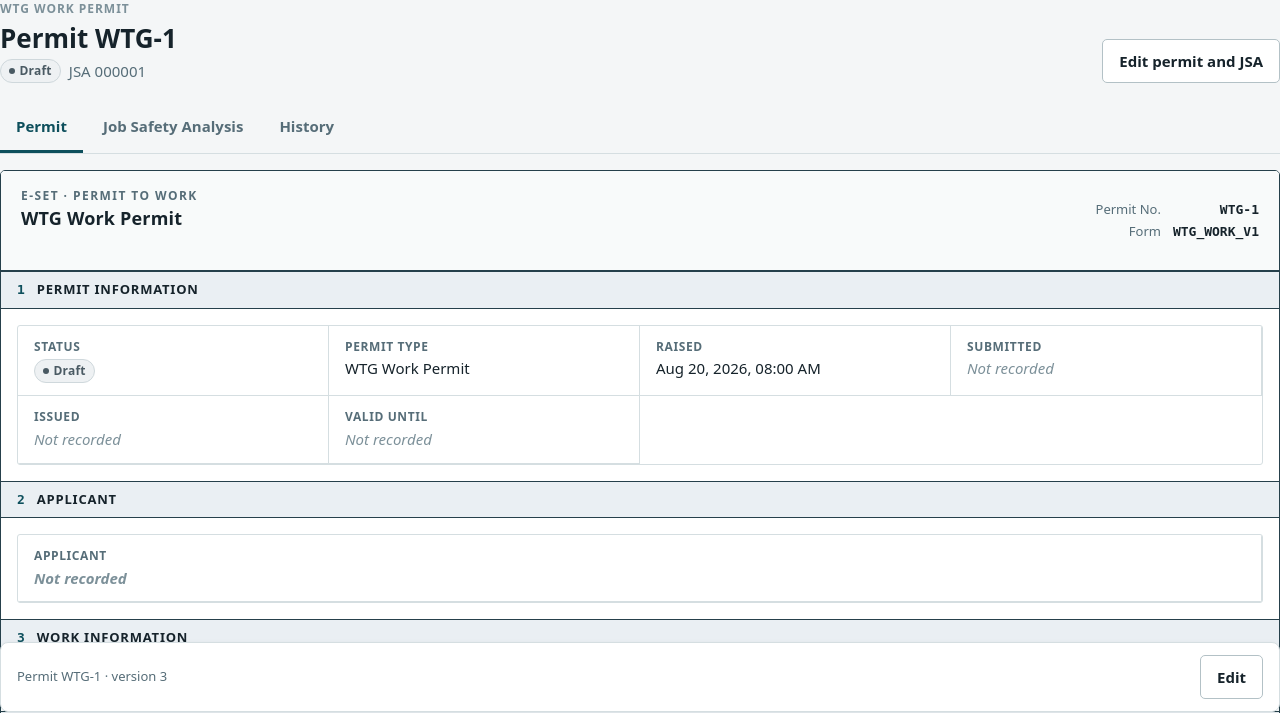
editing › shows the backend’s field-level validation issues
Click the button "Edit permit and JSA": (1191, 61) [1102,39,1279,83]
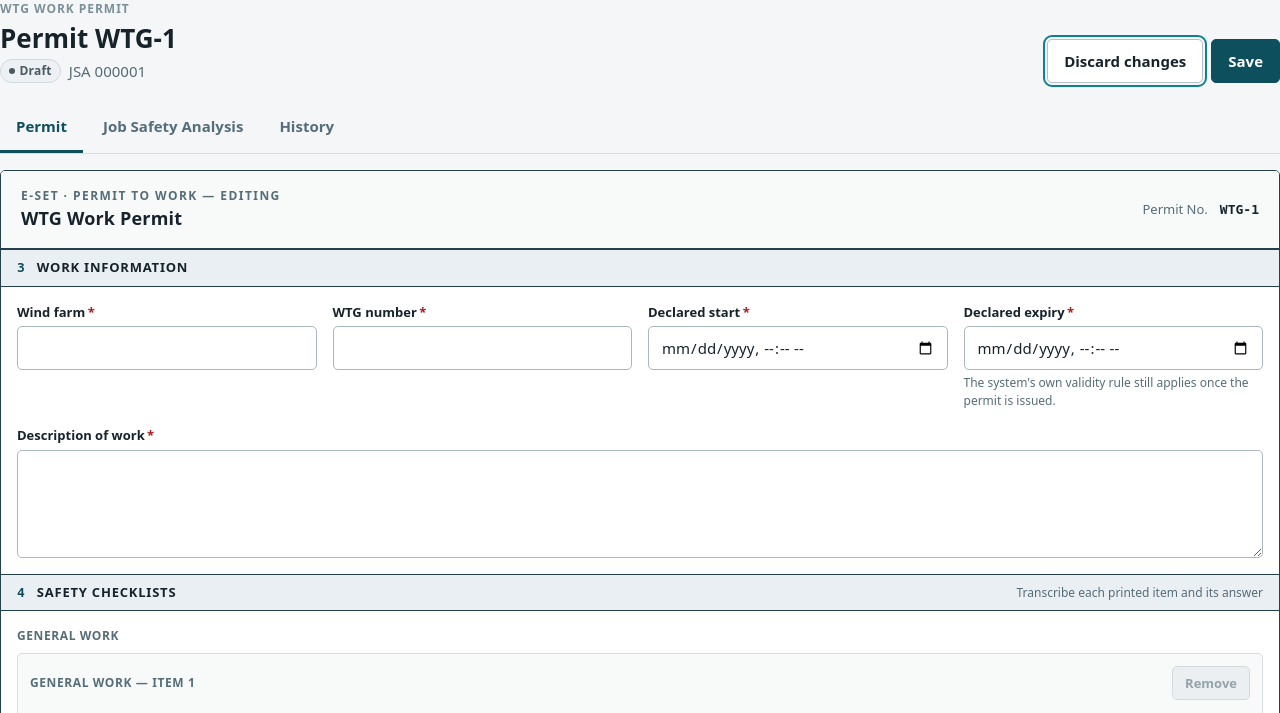
Click the button "Save": (1246, 61) [1211,39,1279,83]
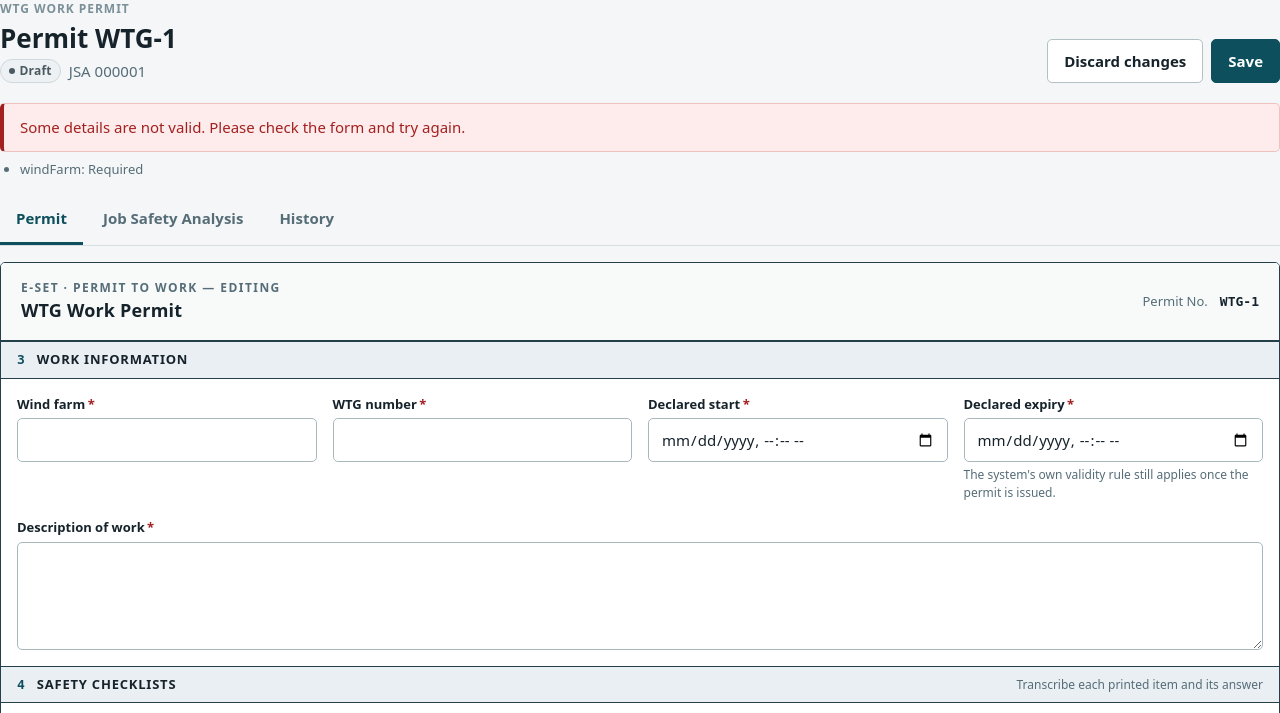
Expected: the list item "windFarm: Required" is shown, [20,160,143,178]
